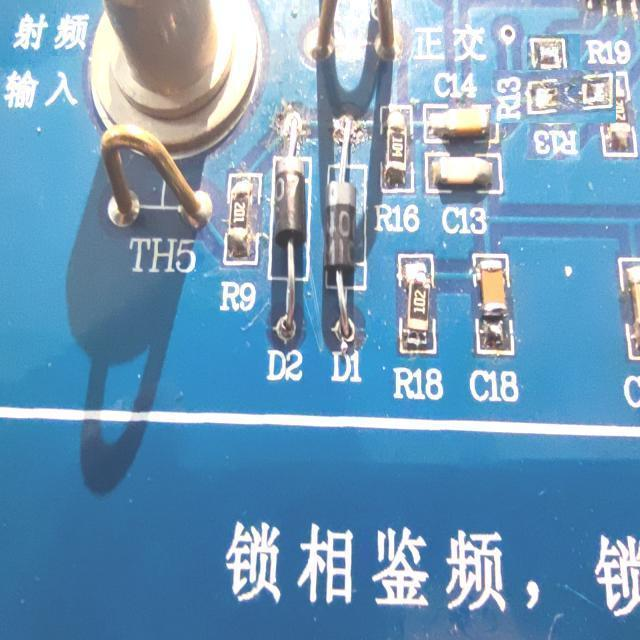miss_welding: (509, 52, 598, 142)
